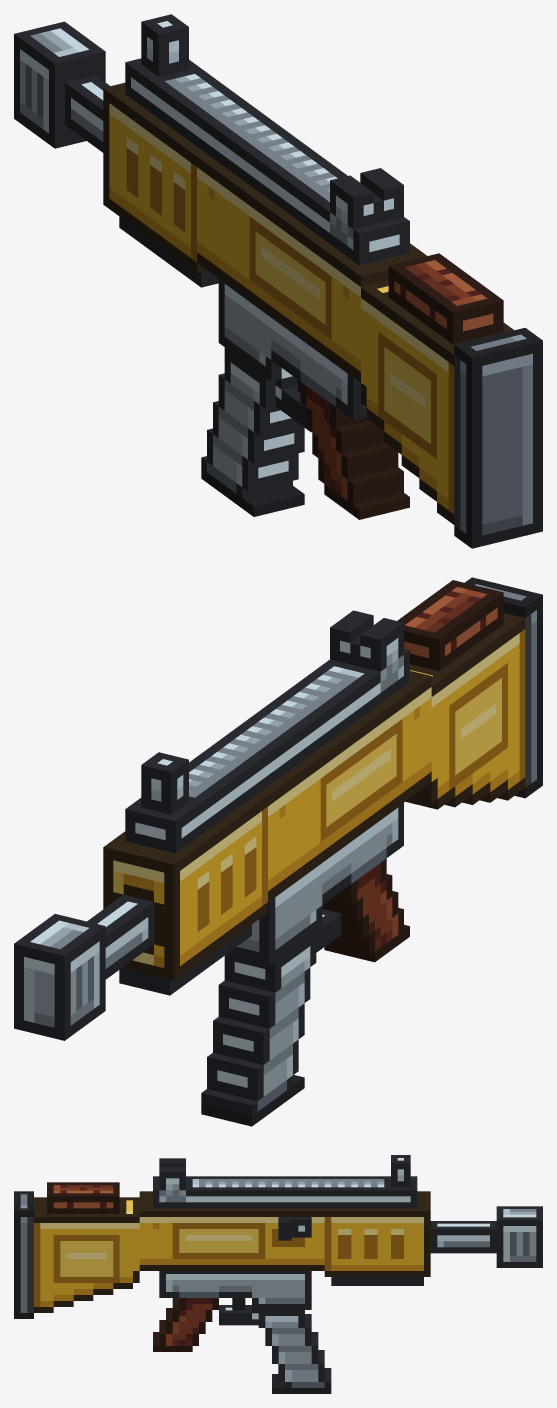
File: Rifle.glb
3 renders of one model, top to bottom at view 1: azimuth 30°, elevation 25°; view 2: azimuth 150°, elevation 25°; view 3: azimuth 270°, elevation 25°, orthographic. The views are drawn at different scales.
Visible parts, largest first — view 1: Body, Magazine; view 2: Body, Magazine; view 3: Body, Magazine, Slide.
Part boxes in pixels (bbox=[...]): Body: bbox=[14, 14, 542, 548]; Magazine: bbox=[201, 347, 304, 516]; Body: bbox=[14, 577, 542, 1040]; Magazine: bbox=[201, 931, 316, 1126]; Body: bbox=[14, 1155, 542, 1351]; Magazine: bbox=[258, 1310, 331, 1393]; Slide: bbox=[278, 1217, 311, 1240].
Size of the model in its own units: 0.4779 by 2.02 by 4.25.
1 material, 1 textured.
